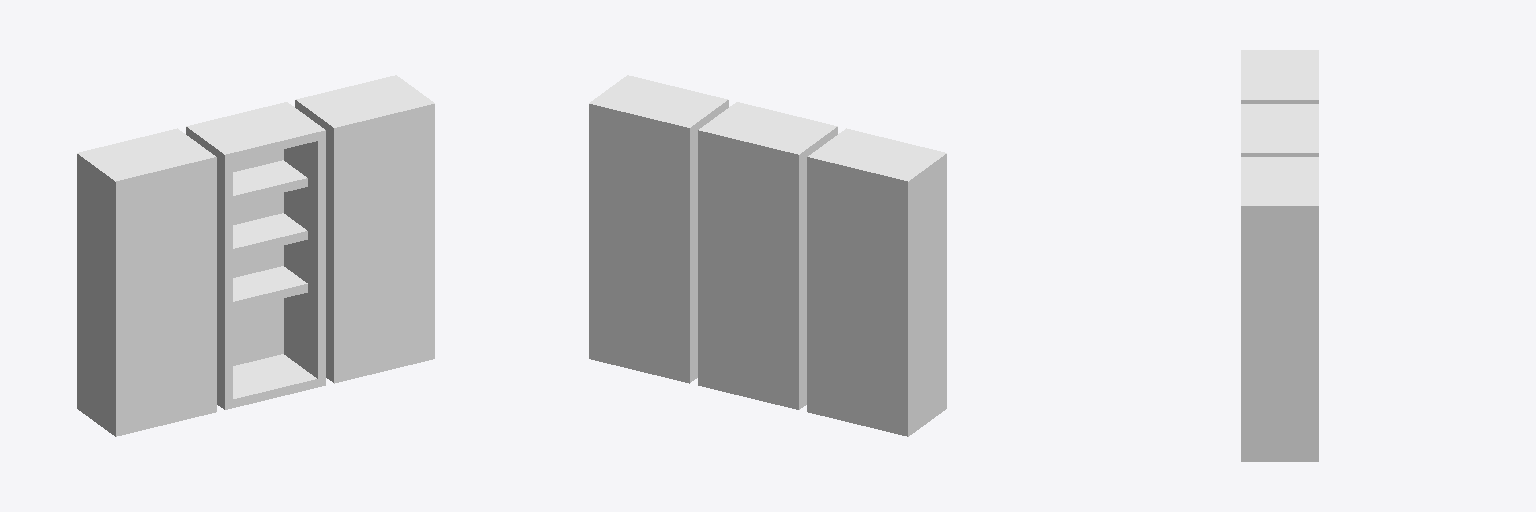
Rendered from mesh_prop_triple_locker-0.obj.
3 renders of one model, left to right at view 1: azimuth 30°, elevation 25°; view 2: azimuth 150°, elevation 25°; view 3: azimuth 270°, elevation 25°, orthographic.
Parts seen in each view (by area): view 1: object 1; view 2: object 1; view 3: object 1.
Part boxes in pixels (bbox=[...]): object 1: bbox=[77, 75, 434, 436]; object 1: bbox=[589, 75, 946, 436]; object 1: bbox=[1241, 50, 1318, 461].
Bounding box in the file's own units: 3.8 × 2.9 × 0.8.